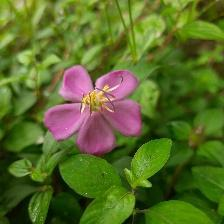malabar melastome: (44, 65, 144, 156)
